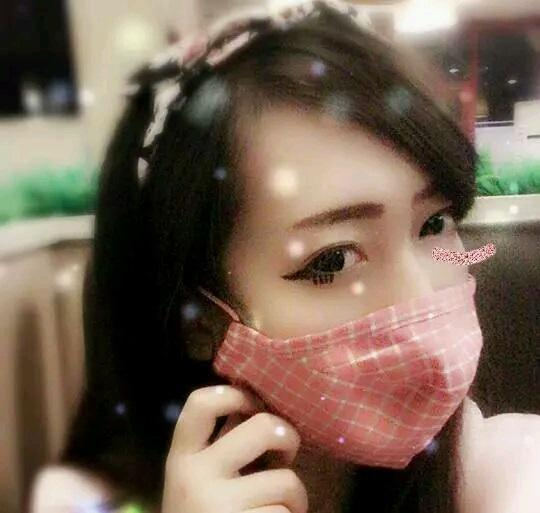OK: (226, 177, 486, 460)
